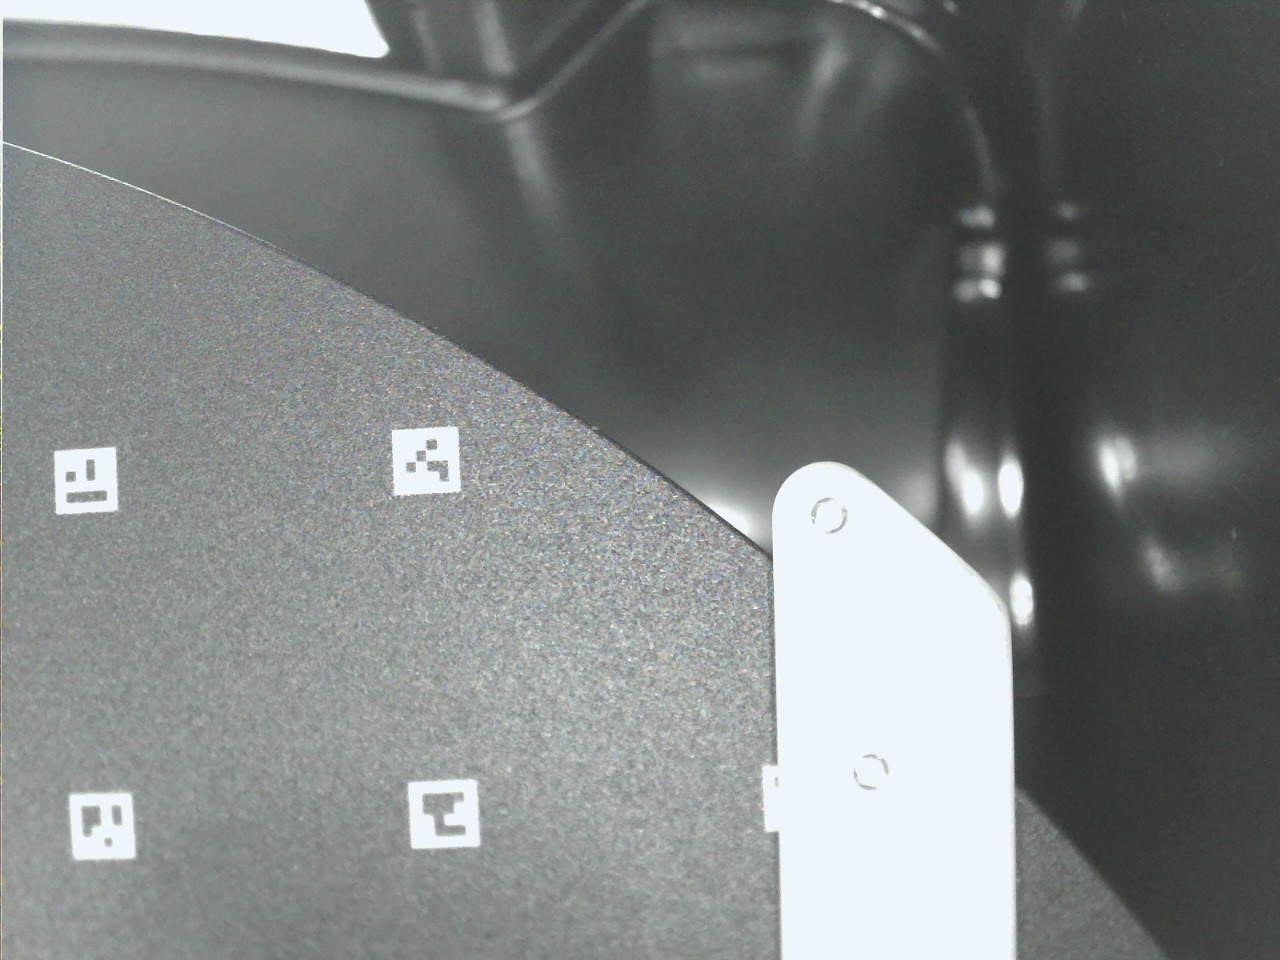tip: (755, 433, 1031, 960)
